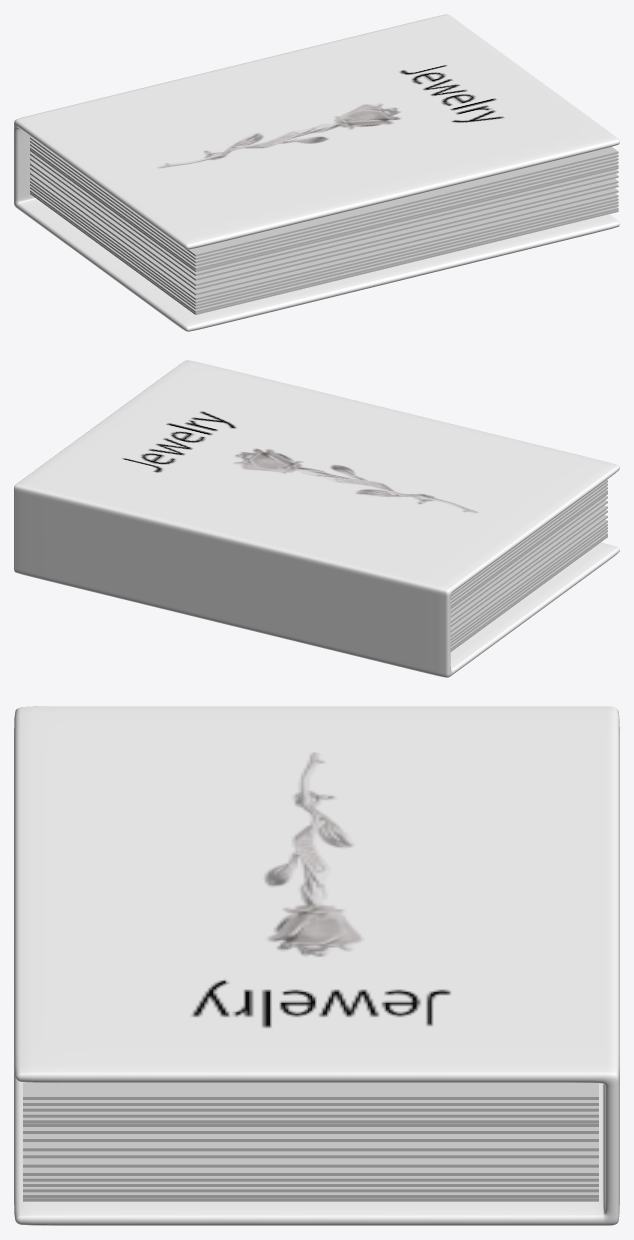
File: Jewelrybook.fbx
The picture shows the model from 3 angles, top to bottom: view 1: azimuth 30°, elevation 25°; view 2: azimuth 150°, elevation 25°; view 3: azimuth 270°, elevation 25°; orthographic projection. The views are drawn at different scales.
Visible parts, largest first — view 1: book, page, page7, page9, page6, page11, page8, page5, page15, page16, page3, page10 (+6 smaller); view 2: book, page7, page9, page6, page11, page8, page5, page15, page16, page10, page3, page2 (+3 smaller); view 3: book, page, page9, page7, page11, page8, page6, page16, page15, page5, page3, page14 (+6 smaller).
Boxes of the visible parts, x1,y1,x2,y2 form: book: (14, 14, 619, 331); page: (184, 147, 618, 256); page7: (30, 162, 618, 285); page9: (30, 172, 618, 295); page6: (30, 157, 618, 280); page11: (30, 176, 618, 300); page8: (30, 167, 618, 290); page5: (30, 153, 618, 275); page15: (30, 190, 618, 312); page16: (30, 147, 618, 269); page3: (30, 143, 618, 266); page10: (30, 180, 618, 303); book: (14, 360, 619, 677); page7: (450, 505, 607, 622); page9: (450, 515, 607, 632); page6: (450, 500, 607, 617); page11: (450, 520, 607, 636); page8: (450, 510, 607, 626); page5: (450, 496, 607, 612); page15: (450, 533, 607, 649); page16: (450, 490, 607, 606); page10: (450, 523, 607, 640); page3: (450, 486, 607, 603); page2: (451, 483, 607, 599); book: (14, 706, 619, 1225); page: (23, 1082, 598, 1099); page9: (23, 1158, 598, 1167); page7: (23, 1142, 598, 1151); page11: (23, 1167, 598, 1175); page8: (23, 1151, 598, 1158); page6: (23, 1134, 598, 1141); page16: (23, 1117, 598, 1123); page15: (23, 1192, 598, 1198); page5: (23, 1127, 598, 1133); page3: (23, 1111, 598, 1117); page14: (23, 1181, 598, 1186).
Size of the model in its own units: 1.18 by 0.2299 by 0.8138.
